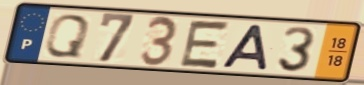3: (137, 14, 180, 69), (276, 26, 318, 74)
7: (97, 11, 137, 66)
A: (219, 23, 271, 72)
E: (176, 19, 233, 71)
Q: (42, 13, 93, 59)
